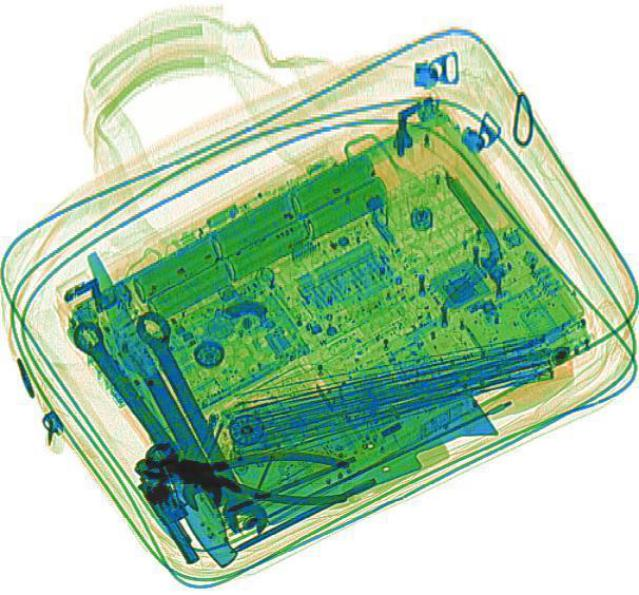Gun: (115, 433, 236, 565)
Pliers: (165, 439, 348, 508)
Wrench: (54, 310, 233, 516), (119, 303, 272, 541)
